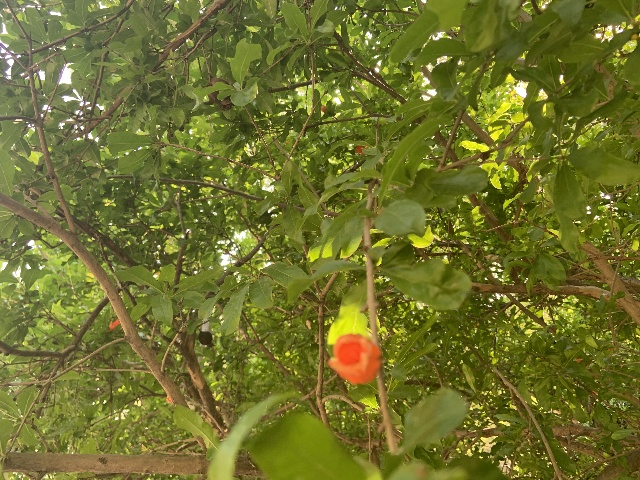flower: (328, 334, 381, 384)
